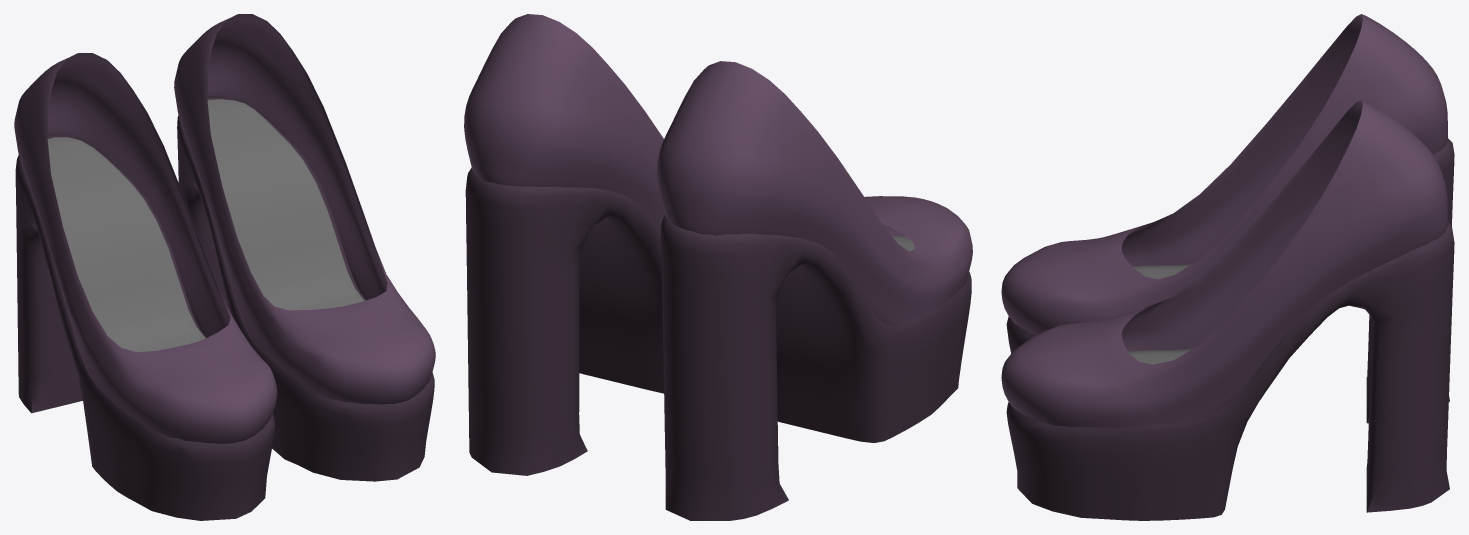
3 renders of one model, left to right at view 1: azimuth 30°, elevation 25°; view 2: azimuth 150°, elevation 25°; view 3: azimuth 270°, elevation 25°, orthographic. The views are drawn at different scales.
Visible parts, largest first — view 1: s4studio_mesh_1_geom.001, s4studio_mesh_1_geom.002; view 2: s4studio_mesh_1_geom.001, s4studio_mesh_1_geom.002; view 3: s4studio_mesh_1_geom.002, s4studio_mesh_1_geom.001.
Boxes of the visible parts, x1,y1,x2,y2 form: s4studio_mesh_1_geom.001: (14, 53, 277, 520); s4studio_mesh_1_geom.002: (174, 14, 435, 481); s4studio_mesh_1_geom.001: (657, 61, 972, 520); s4studio_mesh_1_geom.002: (464, 14, 664, 475); s4studio_mesh_1_geom.002: (1001, 99, 1454, 520); s4studio_mesh_1_geom.001: (1001, 14, 1454, 423).
Size of the model in its own units: 180 by 205 by 219.
